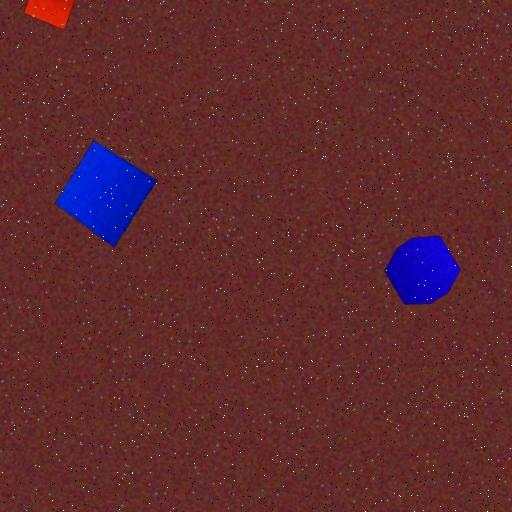BLUE_SQUARE: (54, 140, 158, 248)
RED_SQUARE: (23, 0, 77, 30)
